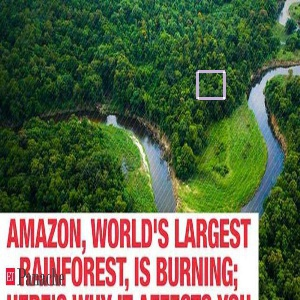square: (194, 68, 228, 102)
